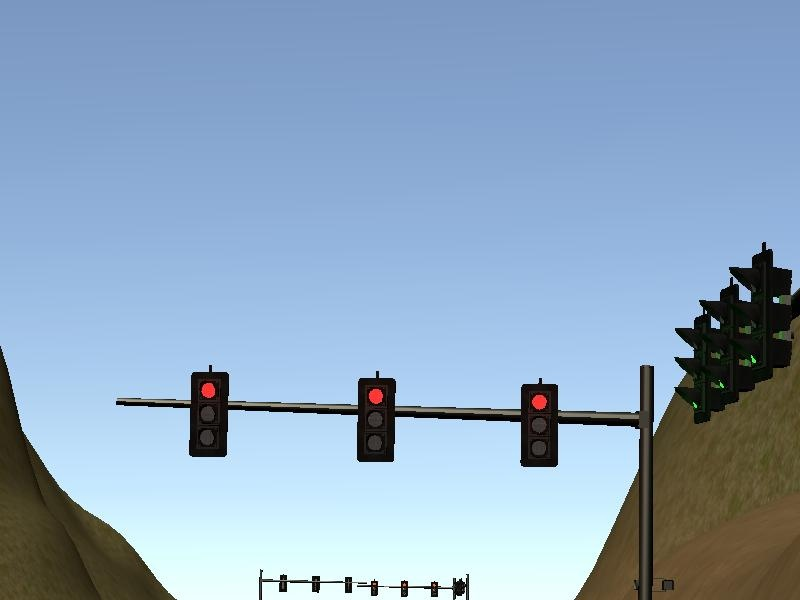RED: (190, 371, 228, 458), (357, 376, 395, 463), (519, 384, 558, 467)
